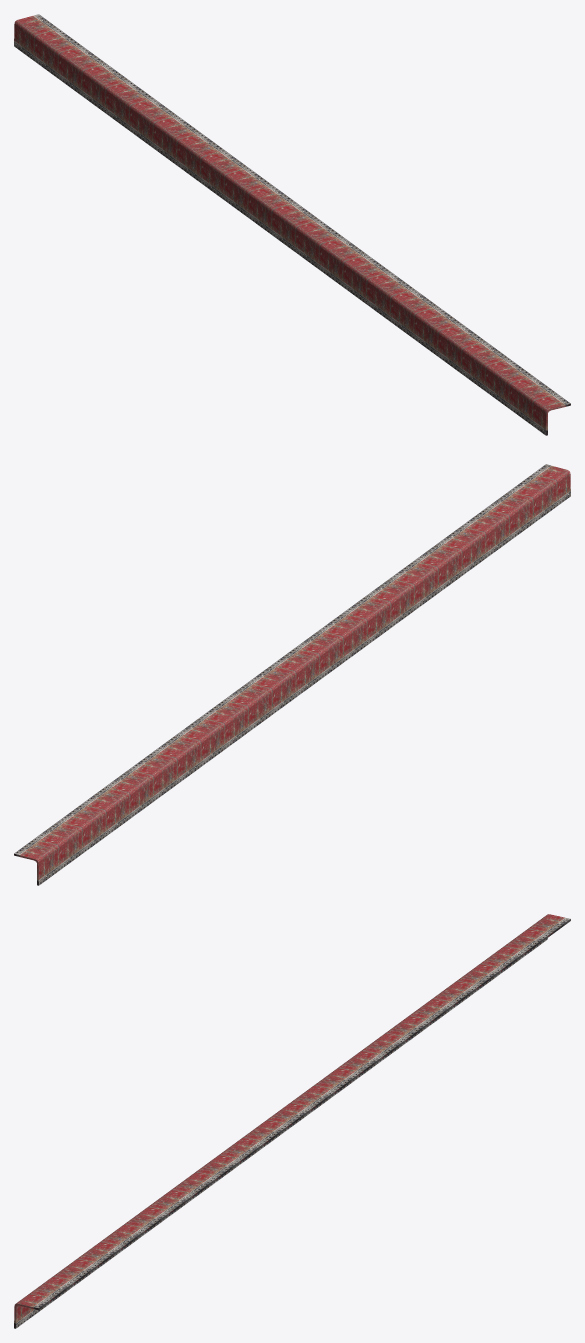
File: MOD_WallProtect_4000.FBX
3 views of the same model, one above another, from view 1: azimuth 30°, elevation 25°; view 2: azimuth 150°, elevation 25°; view 3: azimuth 330°, elevation 25° (orthographic).
Visible parts, largest first — view 1: MOD_WallProtect_4000; view 2: MOD_WallProtect_4000; view 3: MOD_WallProtect_4000.
Part boxes in pixels (x1,y1,x2,y2): MOD_WallProtect_4000: (14,14,570,435); MOD_WallProtect_4000: (14,464,570,885); MOD_WallProtect_4000: (14,914,570,1328).
Size of the model in its own units: 54.07 by 54.07 by 2000.
1 material, 1 textured.
